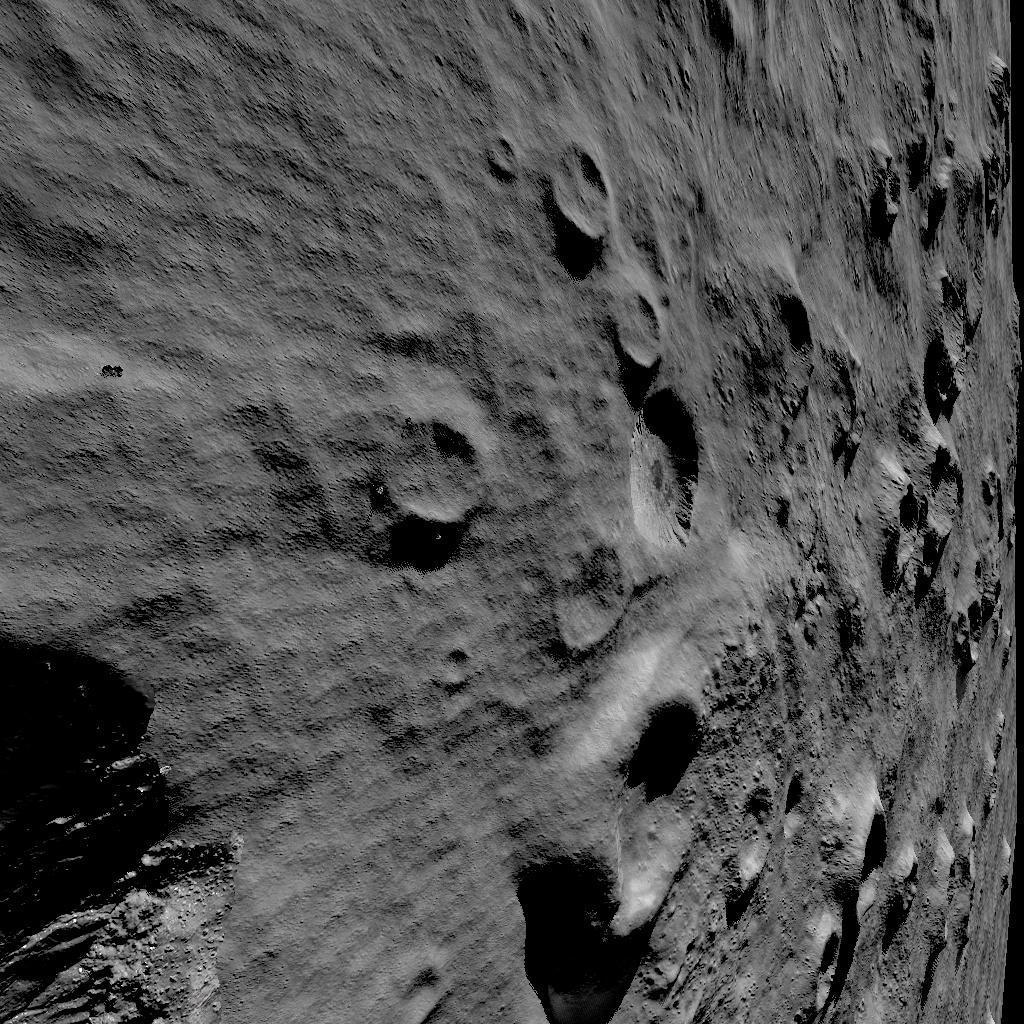Boulders: (0, 632, 216, 1024)
Crater: (513, 638, 708, 998), (546, 142, 703, 548), (724, 735, 958, 994), (868, 298, 1018, 642), (646, 0, 948, 100), (858, 112, 1020, 258), (731, 275, 825, 470), (366, 412, 488, 538)
Plan surface: (0, 0, 498, 395), (234, 565, 470, 1024), (0, 410, 341, 553)
